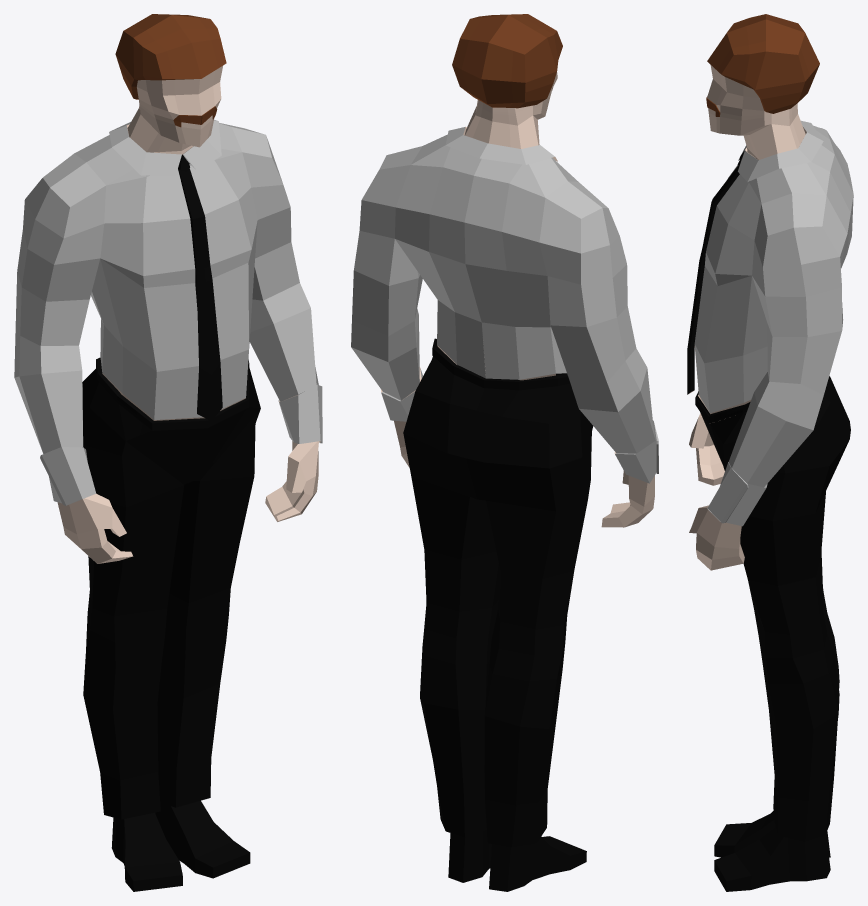
Rendered from pogrzeb.fbx.
3 views of the same model, side by side, from view 1: azimuth 30°, elevation 25°; view 2: azimuth 150°, elevation 25°; view 3: azimuth 270°, elevation 25° (orthographic).
Parts seen in each view (by area): view 1: Cube; view 2: Cube; view 3: Cube.
Boxes of the visible parts, box(x1,y1,x2,y2) form: Cube: box(14, 14, 322, 891); Cube: box(351, 14, 658, 891); Cube: box(687, 14, 853, 891).
Size of the model in its own units: 58.89 by 168 by 29.91.
